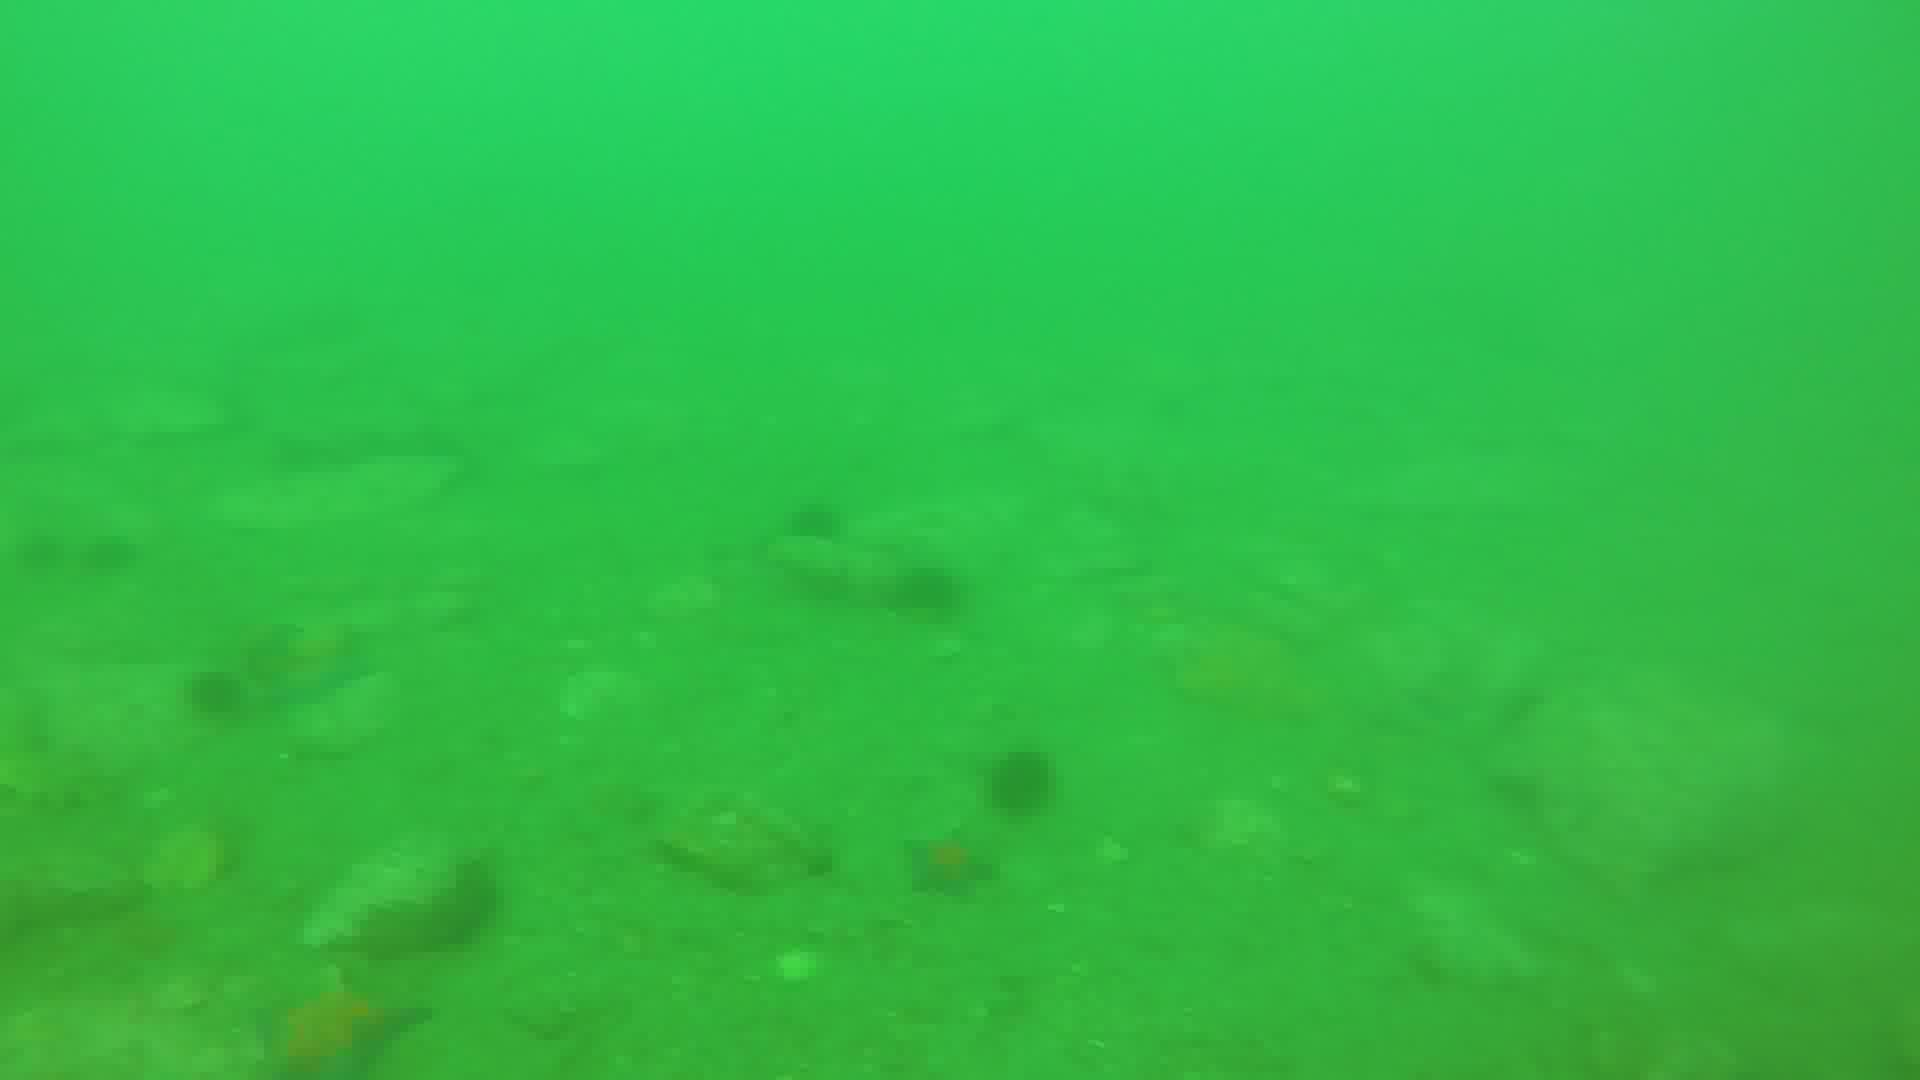echinus: (981, 746, 1060, 827), (185, 667, 253, 717), (793, 497, 843, 543)
starfish: (258, 981, 426, 1080), (249, 624, 371, 698), (905, 825, 1002, 905)
